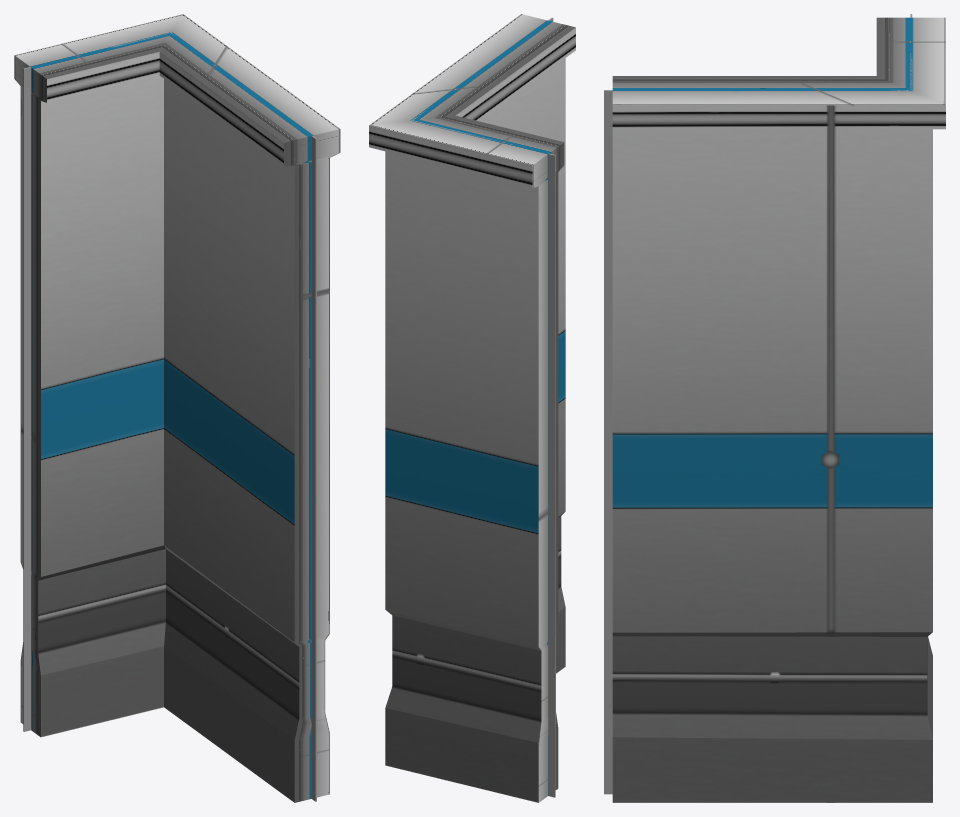
Rendered from CRL_LM_LU_BB.fbx.
3 renders of one model, left to right at view 1: azimuth 30°, elevation 25°; view 2: azimuth 150°, elevation 25°; view 3: azimuth 270°, elevation 25°, orthographic. The views are drawn at different scales.
Visible parts, largest first — view 1: CRL_LM_LU_BB; view 2: CRL_LM_LU_BB; view 3: CRL_LM_LU_BB.
Boxes of the visible parts, x1,y1,x2,y2 form: CRL_LM_LU_BB: (14, 14, 340, 802); CRL_LM_LU_BB: (369, 14, 575, 802); CRL_LM_LU_BB: (604, 14, 945, 802).
Bounding box in the file's own units: 1.25 × 4.5 × 1.98.
